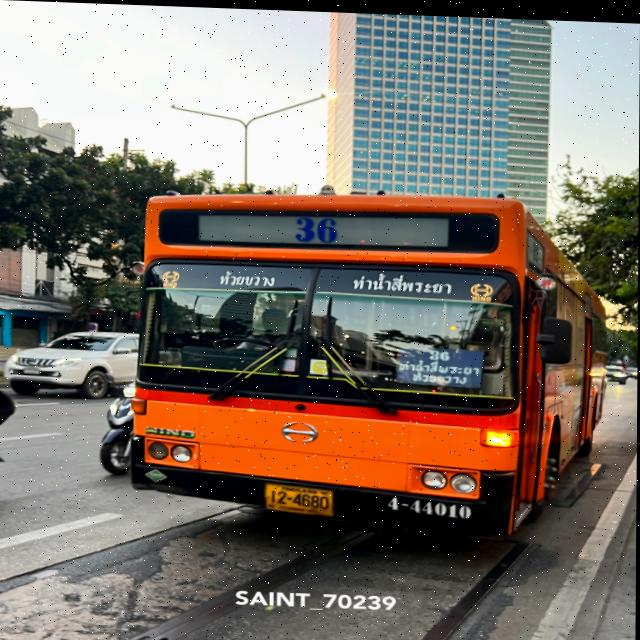BMTA-bus: (101, 183, 610, 535)
Bus-Line-Number: (293, 214, 344, 245)
Destination-Sign-Normal: (394, 342, 484, 385)
